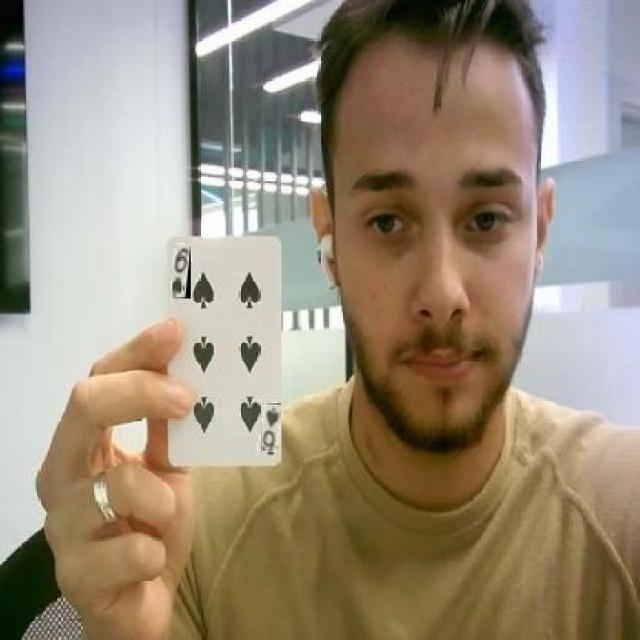6S: (172, 244, 191, 298), (260, 402, 280, 453)
